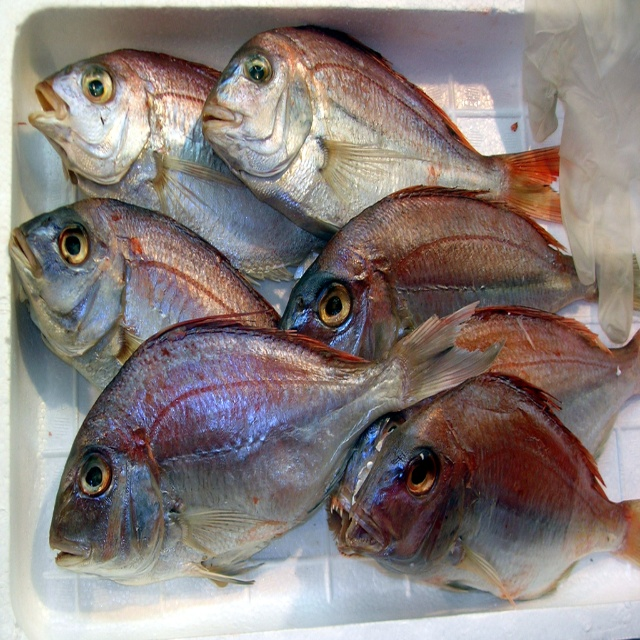Fish: (9, 24, 640, 607)
